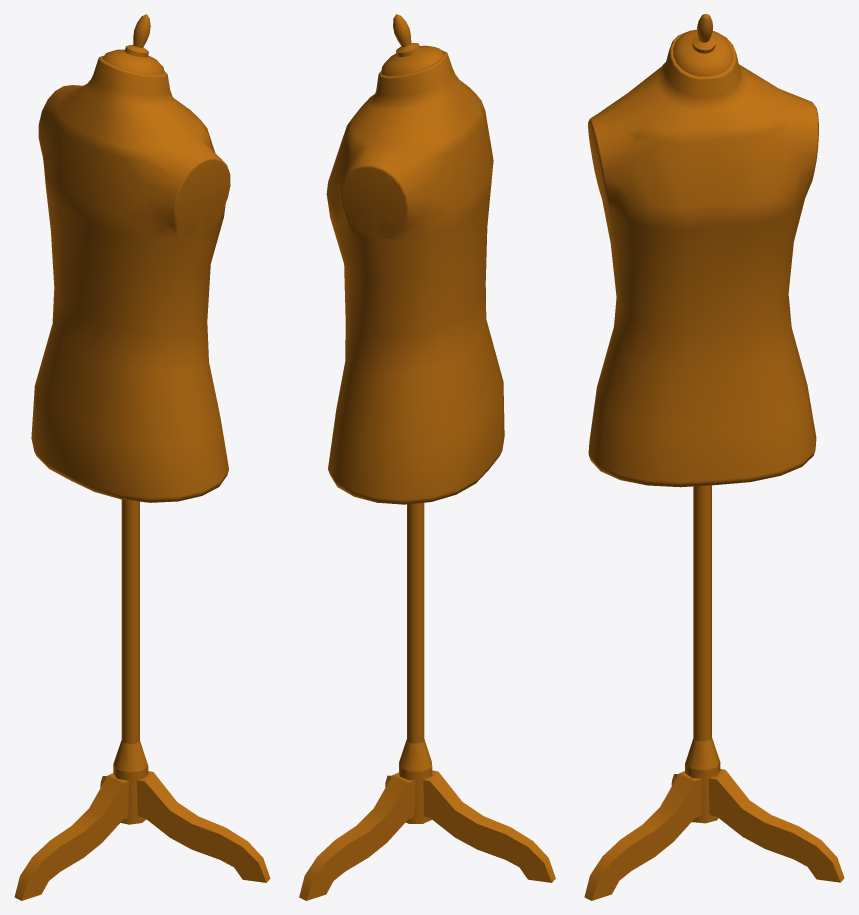
The model's file is Ma-no-canh (1.6, -0.9, 0.3).glb.
The picture shows the model from 3 angles, left to right: view 1: azimuth 30°, elevation 25°; view 2: azimuth 150°, elevation 25°; view 3: azimuth 270°, elevation 25°; orthographic projection.
Visible parts, largest first — view 1: Dress.004; view 2: Dress.004; view 3: Dress.004.
Boxes of the visible parts, left/top/right/bottom form: Dress.004: left=14, top=14, right=270, bottom=900; Dress.004: left=299, top=14, right=555, bottom=900; Dress.004: left=584, top=14, right=844, bottom=900.
Size of the model in its own units: 0.4869 by 1.85 by 0.511.
